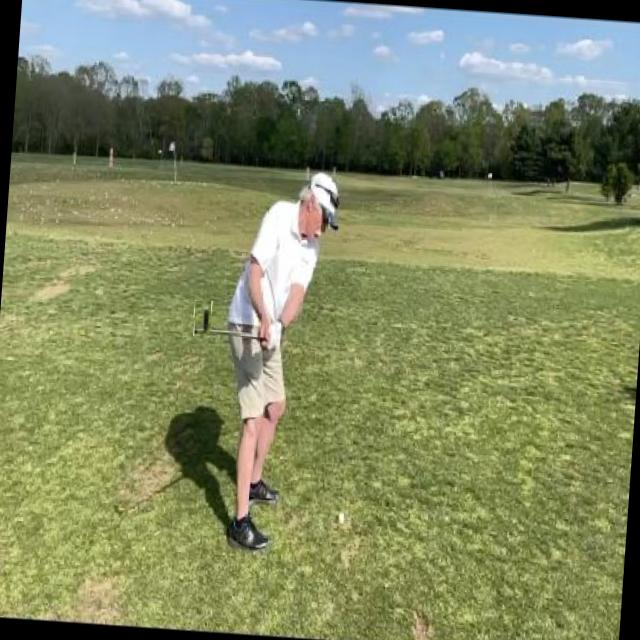club head: (192, 300, 212, 336)
